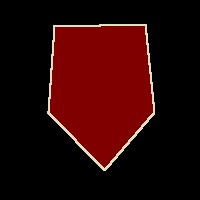tie: (48, 24, 154, 170)
